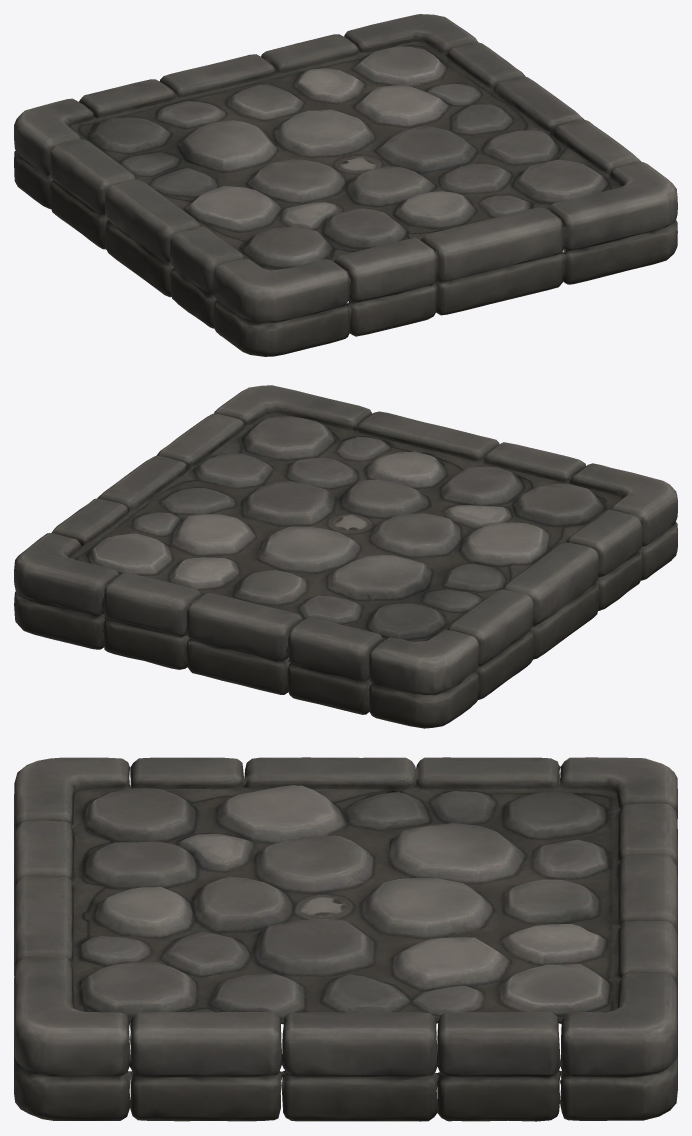
The model's file is plaza_cobblestone_tile.glb.
3 renders of one model, top to bottom at view 1: azimuth 30°, elevation 25°; view 2: azimuth 150°, elevation 25°; view 3: azimuth 270°, elevation 25°, orthographic. The views are drawn at different scales.
Parts seen in each view (by area): view 1: geometry_0; view 2: geometry_0; view 3: geometry_0.
Part boxes in pixels (x1=…): geometry_0: x1=14, y1=14, x2=677, y2=356; geometry_0: x1=14, y1=385, x2=677, y2=728; geometry_0: x1=14, y1=757, x2=677, y2=1121.
Size of the model in its own units: 1 by 0.1557 by 1.
Materials: 1 (1 with a texture image).
